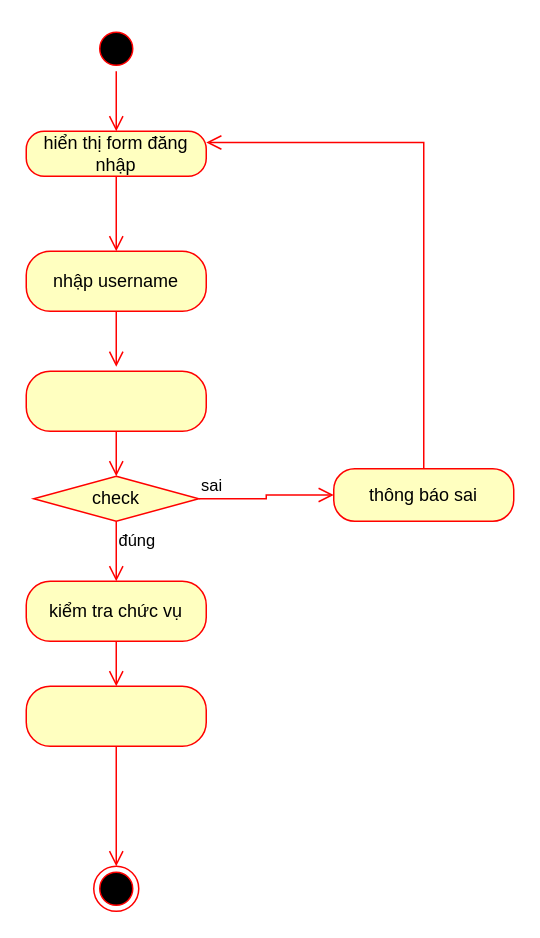
The diagram is 540 pixels wide and 938 high, and some of its shapes have lost their labels. The box of each missing label's shape, as (x1, y1, x2, y2) in pixels:
hiển thị form chính: (25, 685, 206, 746)
nhập mật khẩu: (25, 370, 206, 431)
